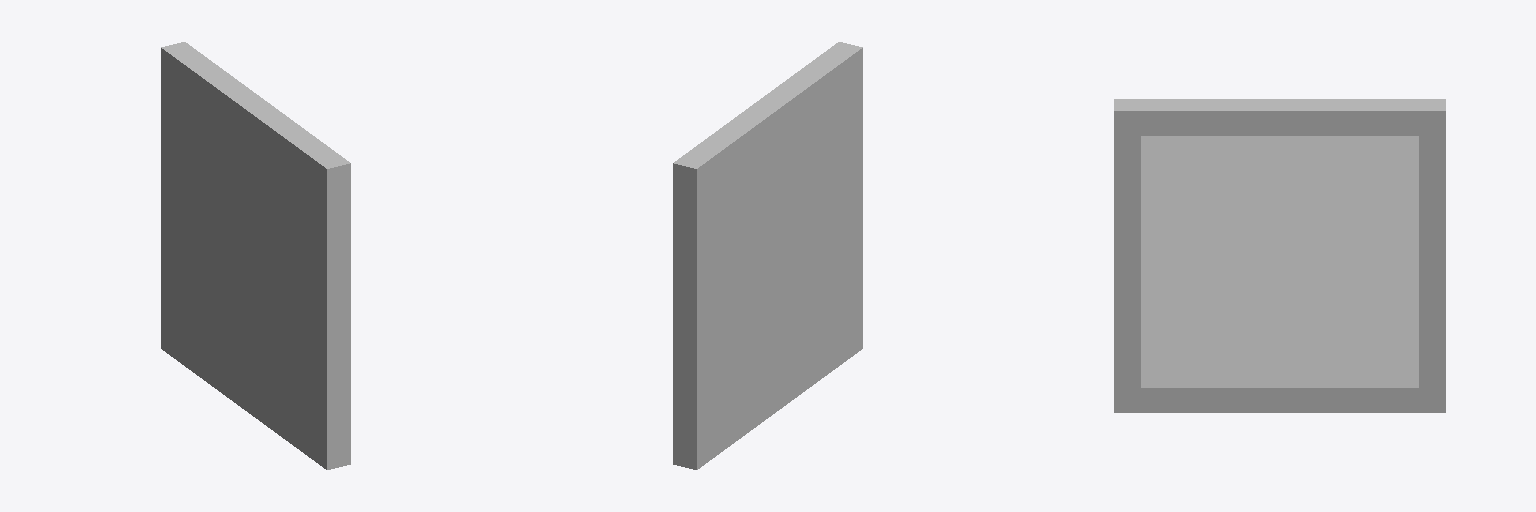
The model's file is simple.obj.
3 renders of one model, left to right at view 1: azimuth 30°, elevation 25°; view 2: azimuth 150°, elevation 25°; view 3: azimuth 270°, elevation 25°, orthographic.
Visible parts, largest first — view 1: box2-GRP-1847-0128_White; view 2: box2-GRP-1847-0128_White; view 3: box2-IMG-1829-Image1, box2-GRP-1847-0128_White.
Boxes of the visible parts, <box> form: box2-GRP-1847-0128_White: <box>161,42,350,469</box>; box2-GRP-1847-0128_White: <box>673,42,862,469</box>; box2-IMG-1829-Image1: <box>1141,136,1418,387</box>; box2-GRP-1847-0128_White: <box>1114,99,1445,412</box>.
Size of the model in its own units: 0.01 by 0.12 by 0.12.